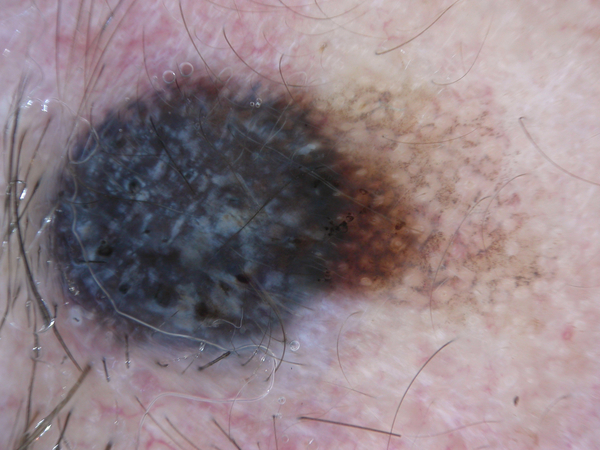Detected Lesion: (45, 67, 438, 356)
